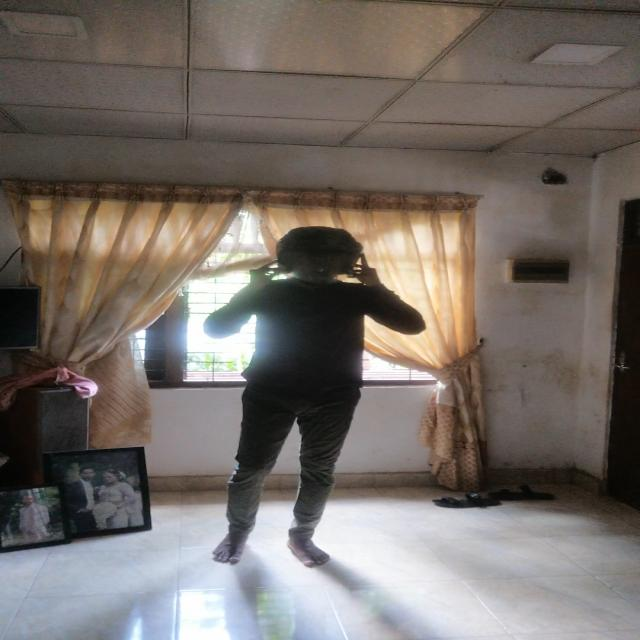Helmet_Wearer: (266, 221, 368, 284)
Person: (218, 219, 418, 559)
